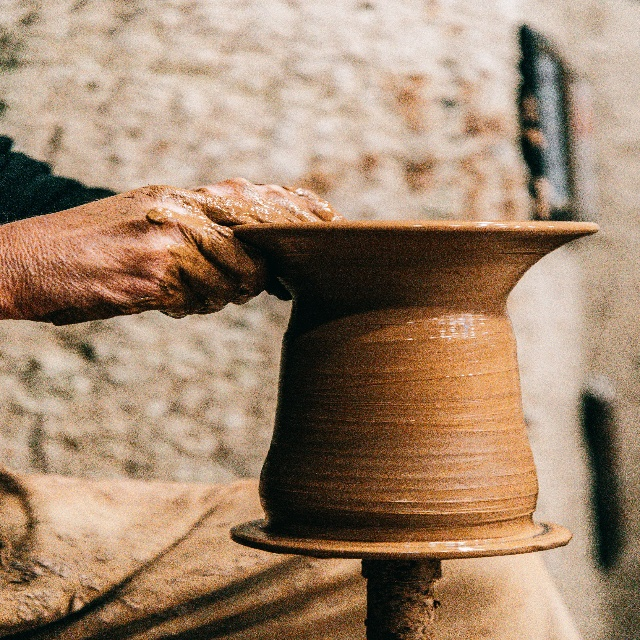Sin_guantes: (0, 184, 272, 327), (215, 176, 344, 222)
